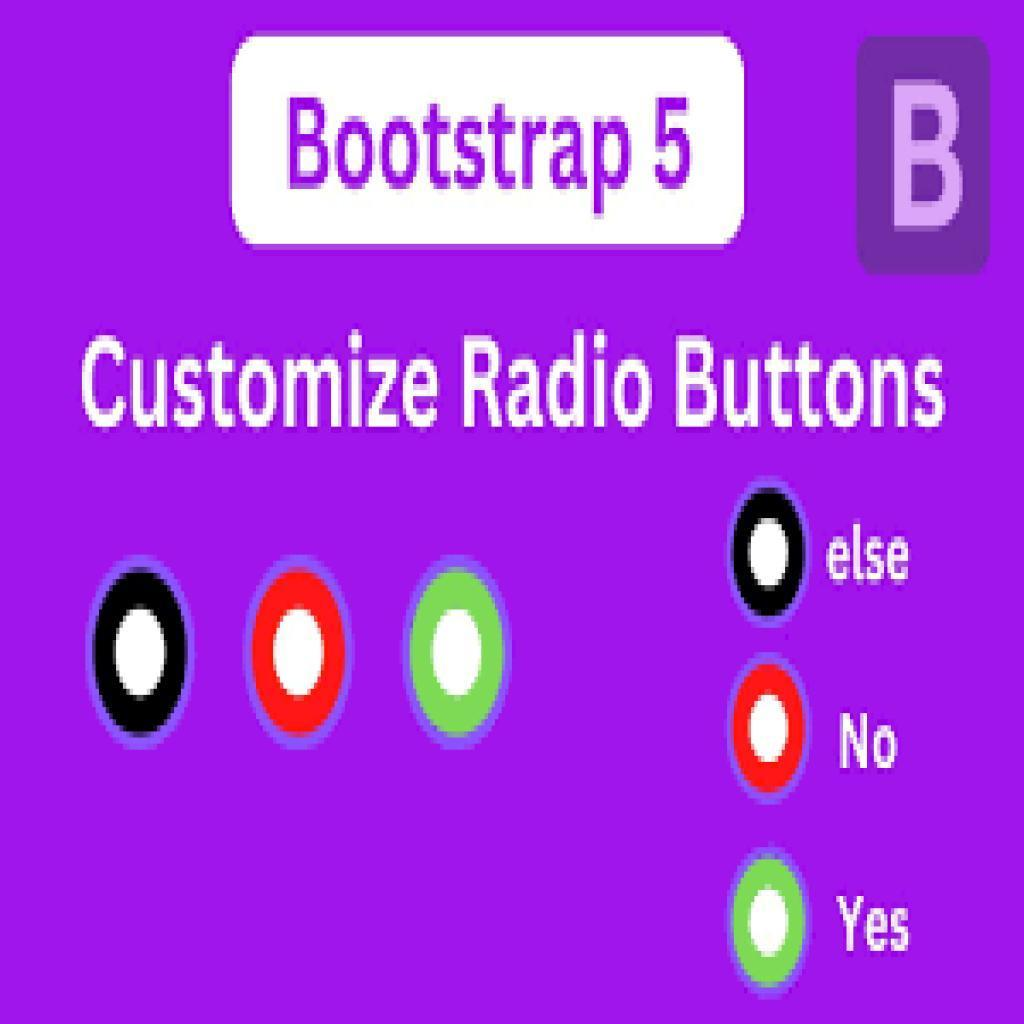label: (824, 522, 921, 596), (833, 884, 921, 963), (839, 706, 901, 775)
radio: (243, 550, 355, 752), (84, 564, 200, 746), (406, 556, 515, 746), (728, 649, 811, 802), (723, 848, 809, 991), (727, 480, 810, 628)
